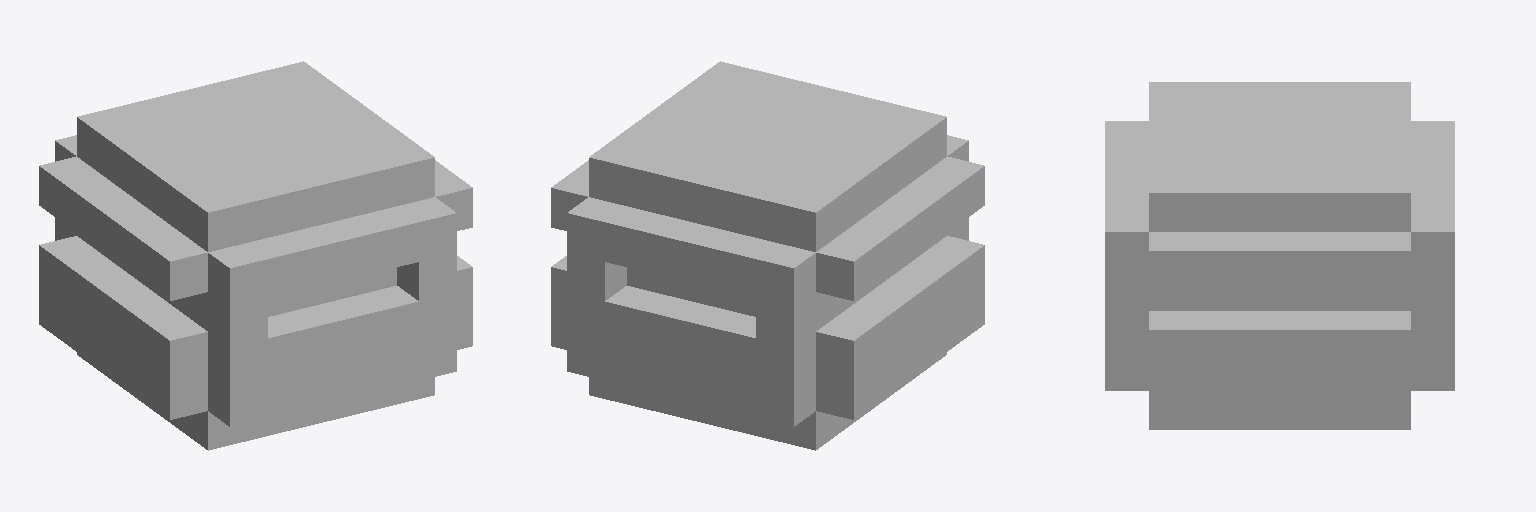
File: crate-1.obj
3 views of the same model, side by side, from view 1: azimuth 30°, elevation 25°; view 2: azimuth 150°, elevation 25°; view 3: azimuth 270°, elevation 25° (orthographic).
Bounding box in the file's own units: 8 × 6 × 8.